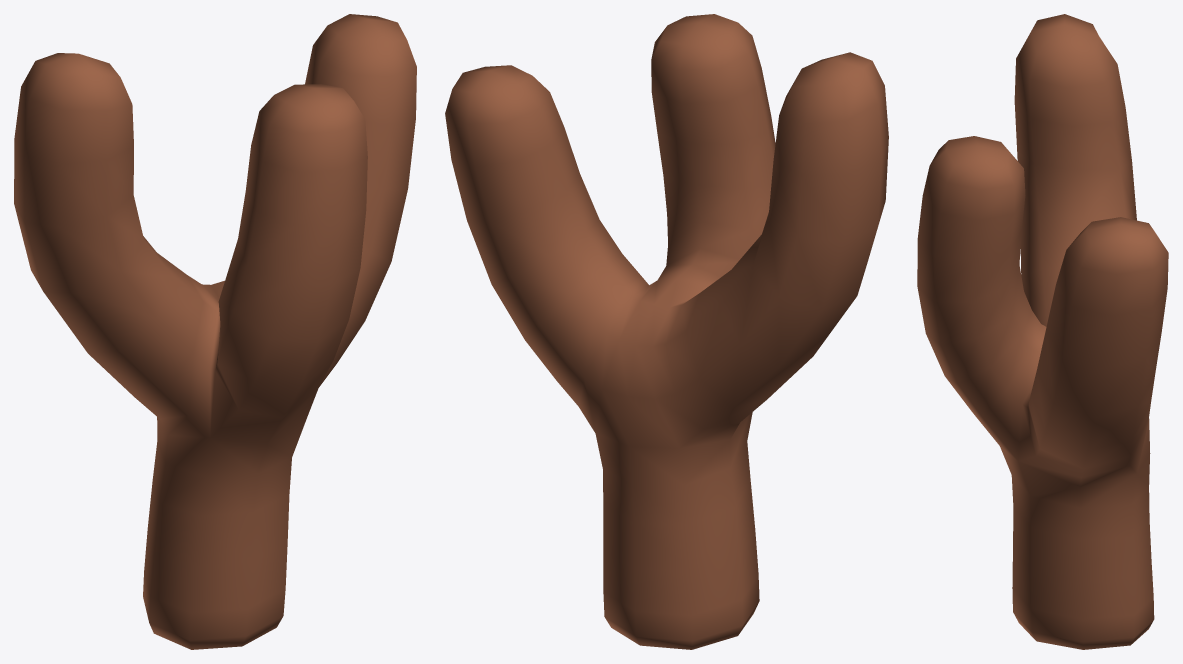
Rendered from Shrub_Btm_A_03.fbx.
The picture shows the model from 3 angles, left to right: view 1: azimuth 30°, elevation 25°; view 2: azimuth 150°, elevation 25°; view 3: azimuth 270°, elevation 25°; orthographic projection. The views are drawn at different scales.
Visible parts, largest first — view 1: Shrub_Btm_A_03_LOD0; view 2: Shrub_Btm_A_03_LOD0; view 3: Shrub_Btm_A_03_LOD0.
Boxes of the visible parts, x1=… form: Shrub_Btm_A_03_LOD0: x1=14, y1=14, x2=416, y2=649; Shrub_Btm_A_03_LOD0: x1=445, y1=14, x2=888, y2=649; Shrub_Btm_A_03_LOD0: x1=917, y1=14, x2=1168, y2=649.
Size of what is drawn, in the model's own units: 227 by 322 by 135.
